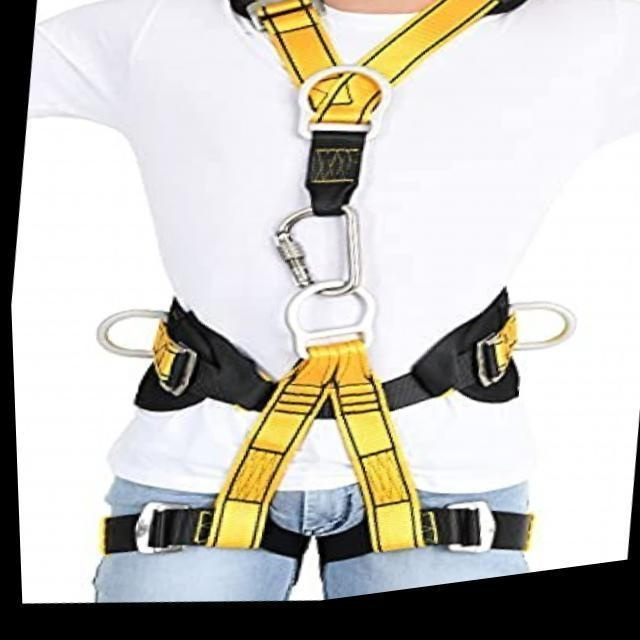Arnes_seguridad: (146, 3, 522, 557)
